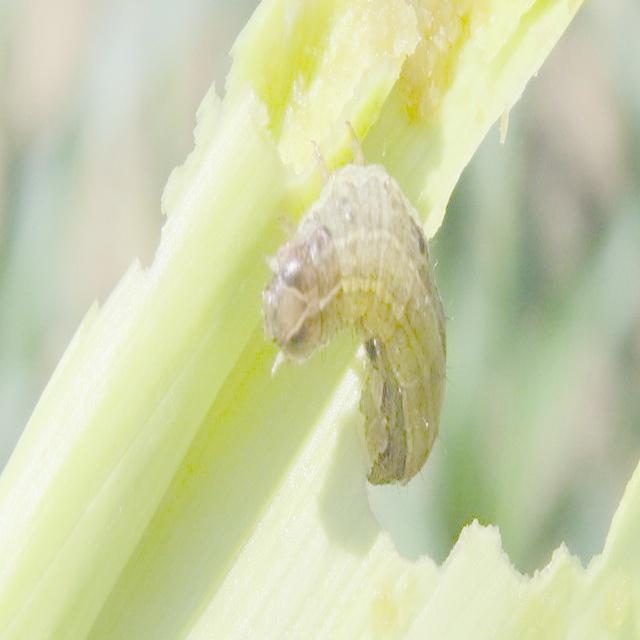gusano_cogollero: (268, 165, 450, 483)
